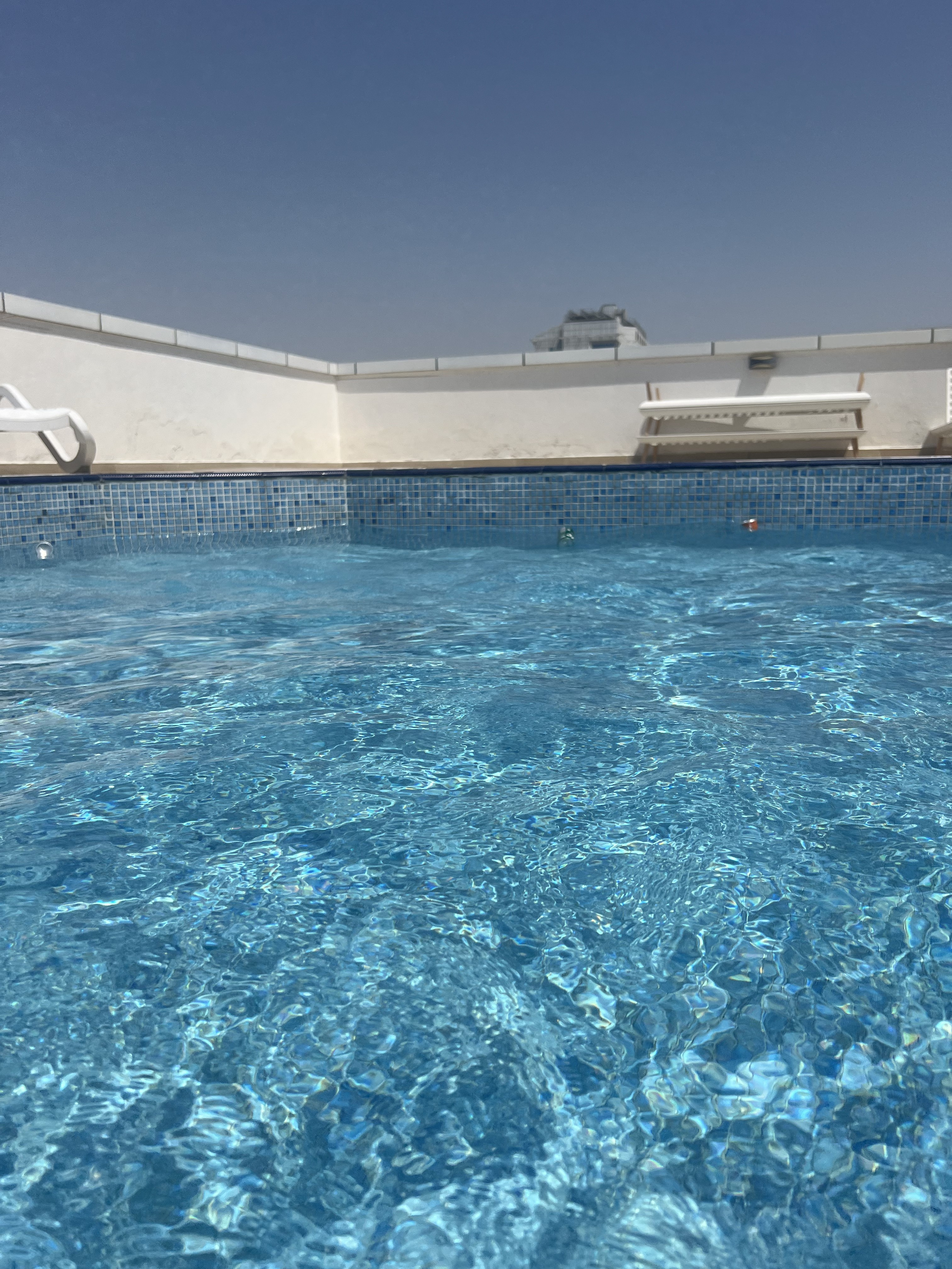debris: (736, 509, 760, 553), (555, 517, 576, 556), (35, 536, 54, 576)
